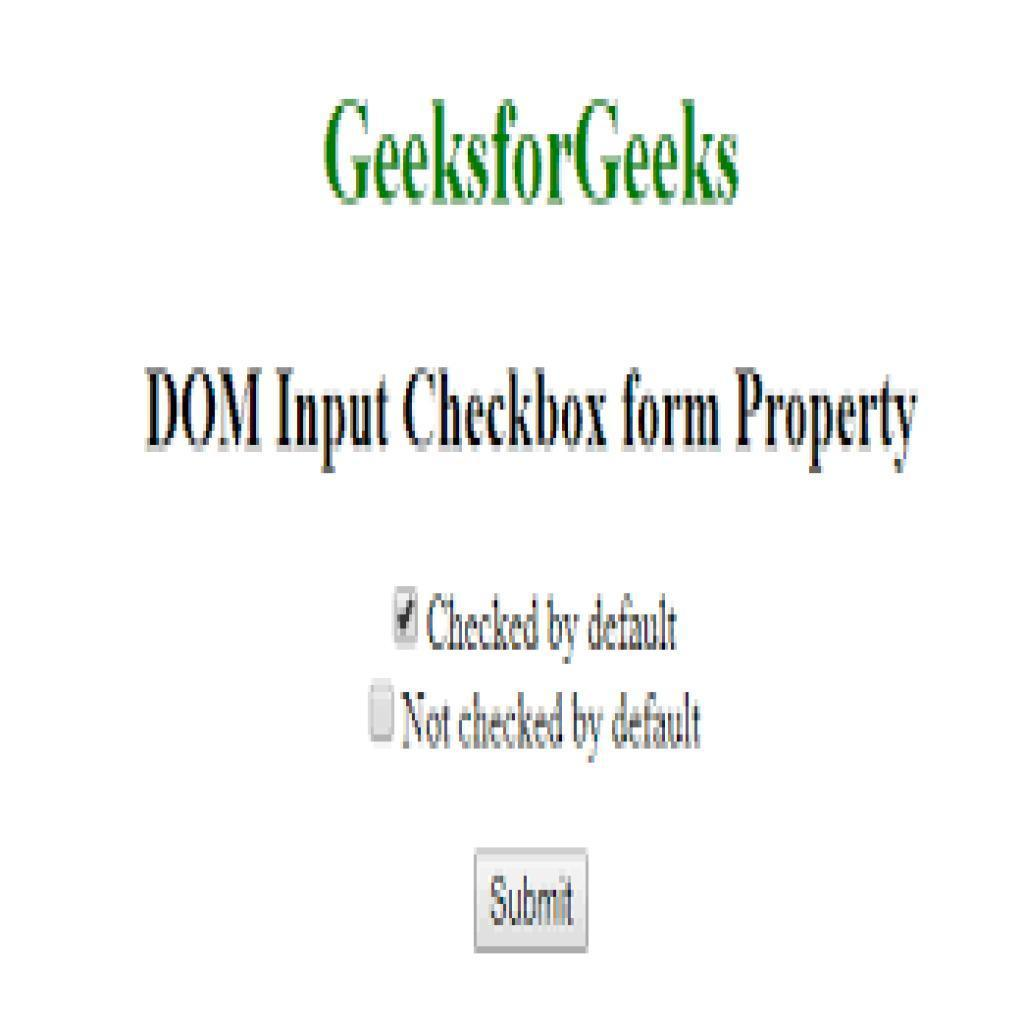button: (475, 850, 593, 955)
checkbox: (390, 582, 424, 656), (368, 678, 399, 751)
